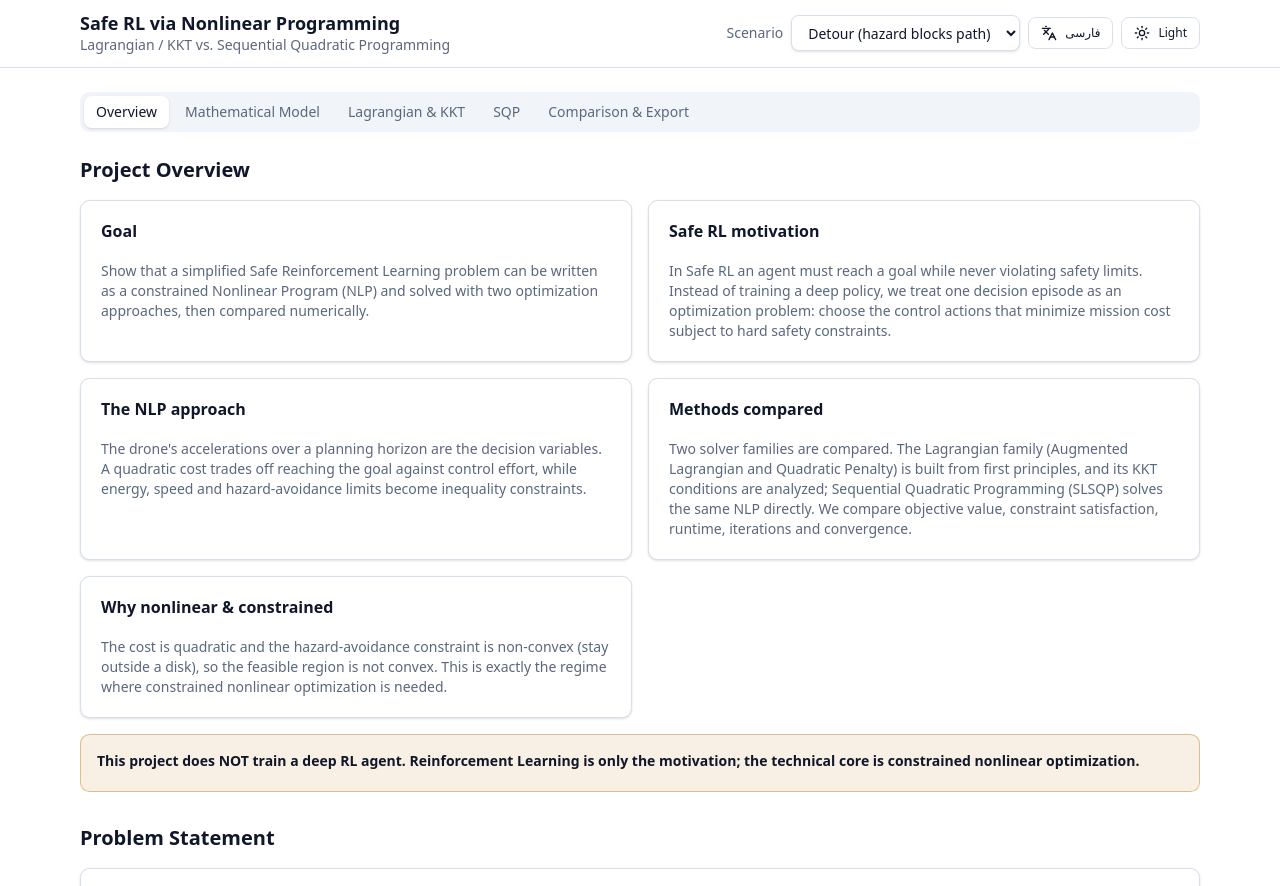
Test: App shell › renders SQP results with a solver-status badge
Click the tab "SQP". click: (507, 112)
box: x1=481 y1=96 x2=532 y2=128
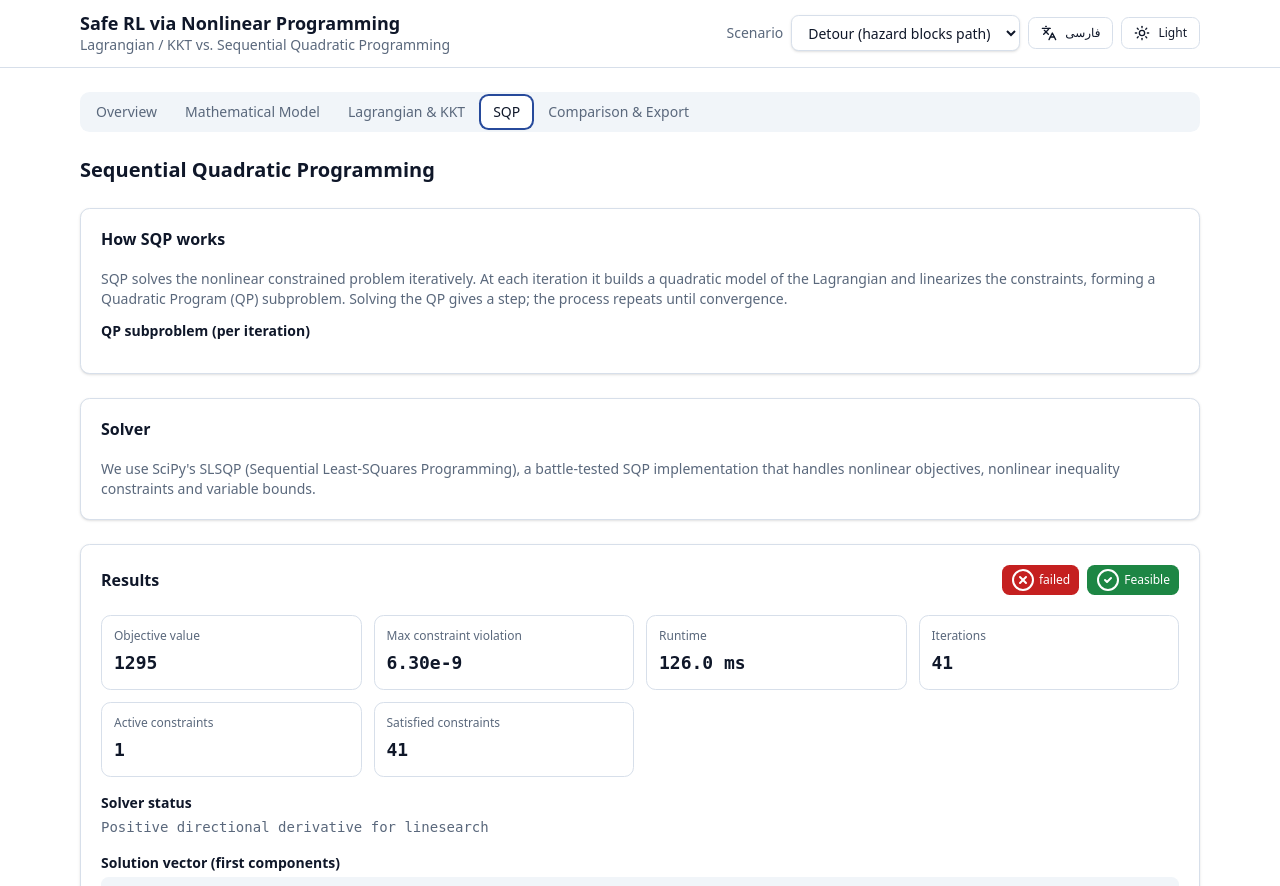
Check: the heading "Solver status" is shown, box x1=101 y1=792 x2=192 y2=812
